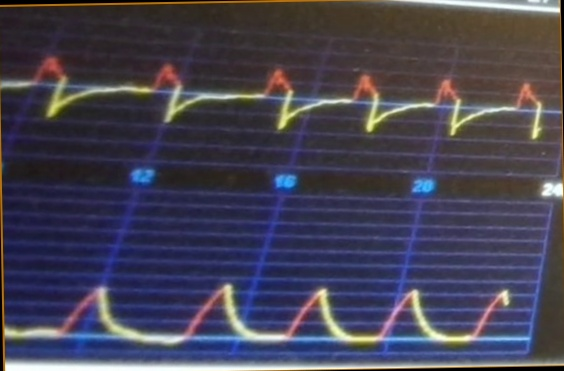Accumulation Flow: (3, 41, 544, 151)
Volume: (7, 262, 513, 358)
